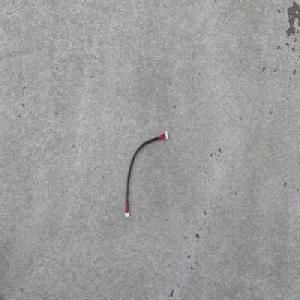Wire: (123, 129, 169, 219)
